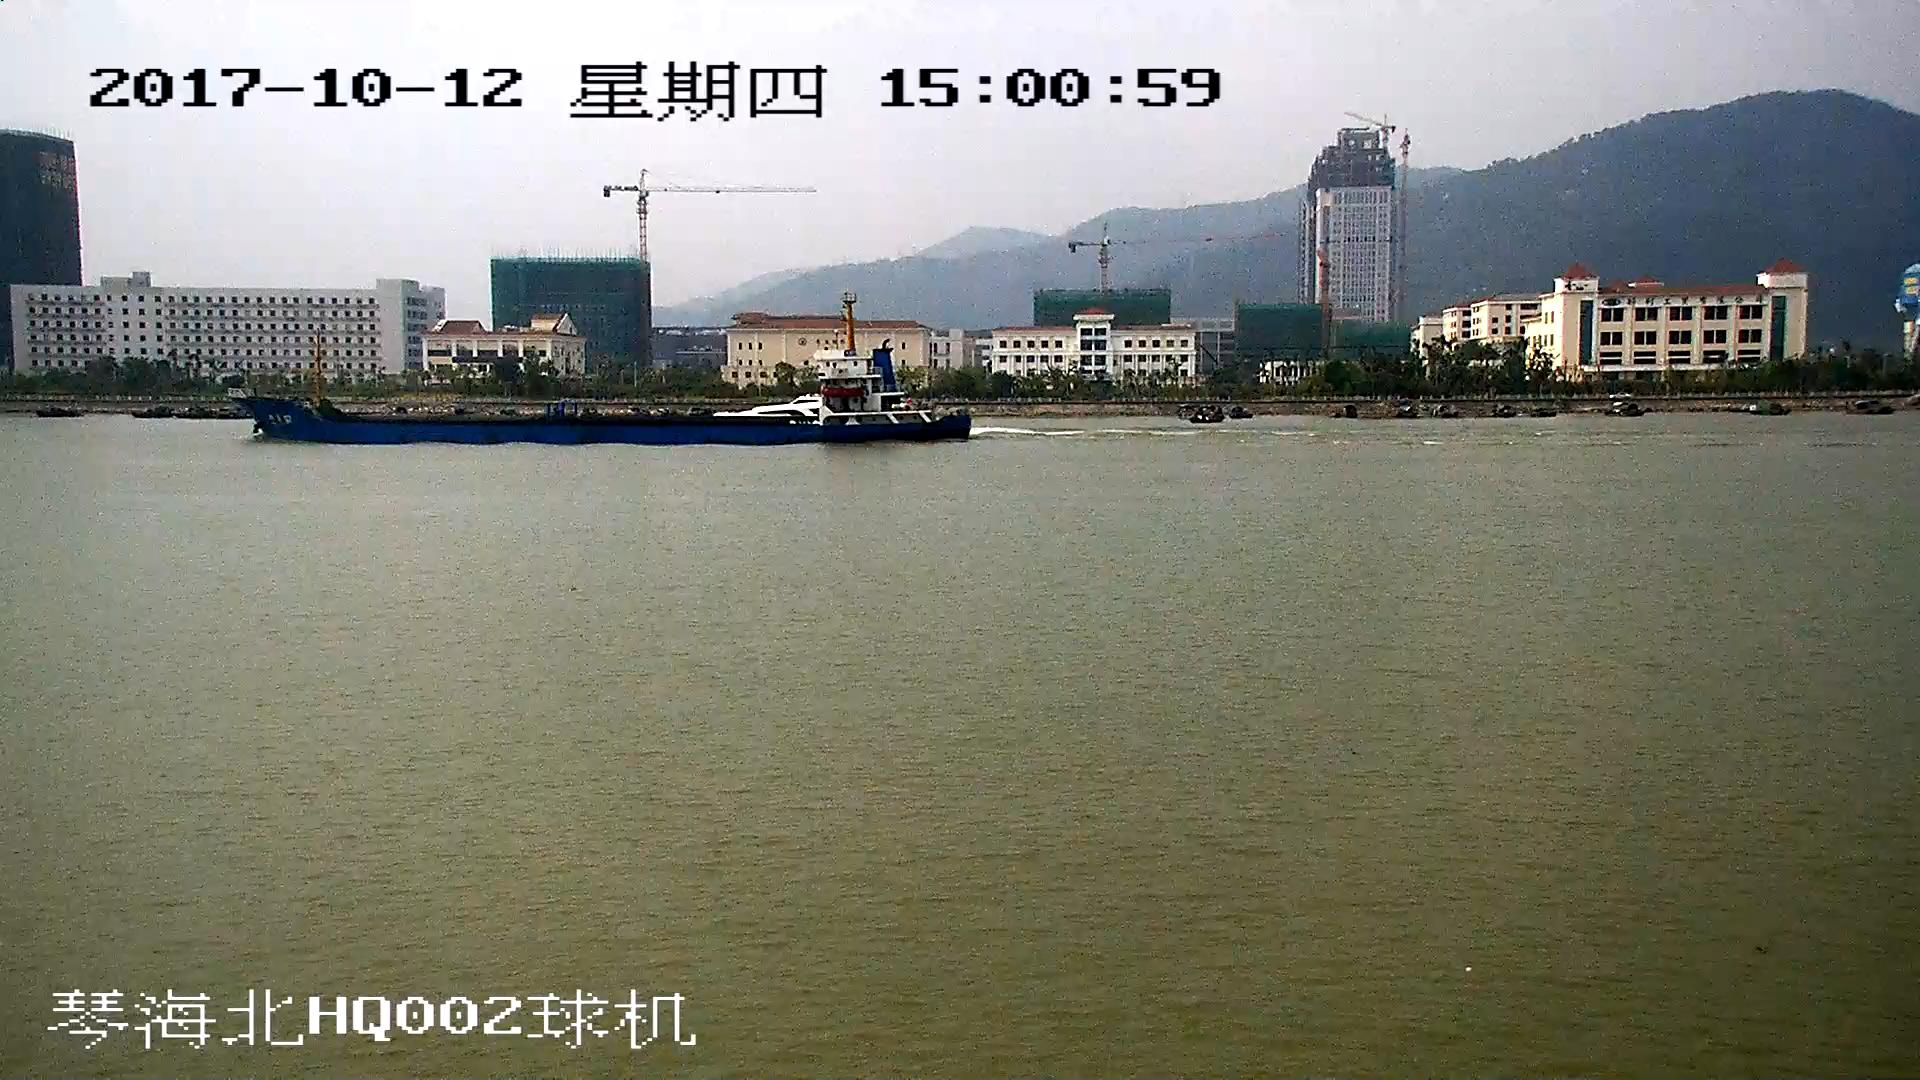general cargo ship: (227, 298, 971, 443)
